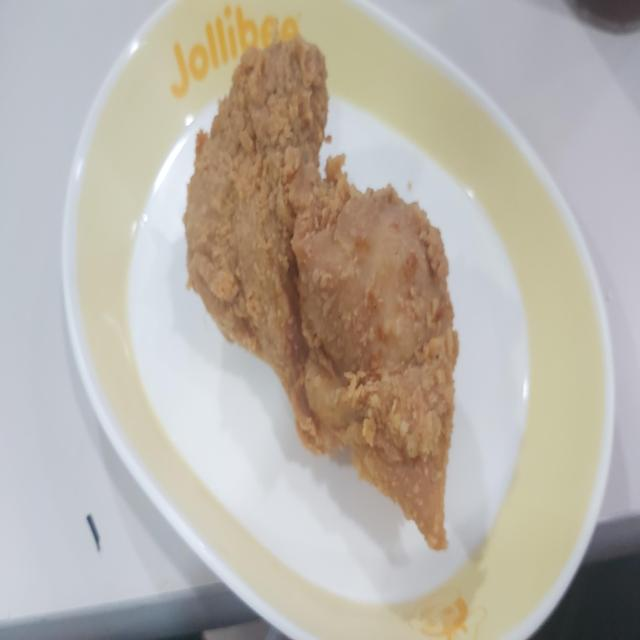Chicken -Fried Chicken-: (199, 47, 493, 577)
